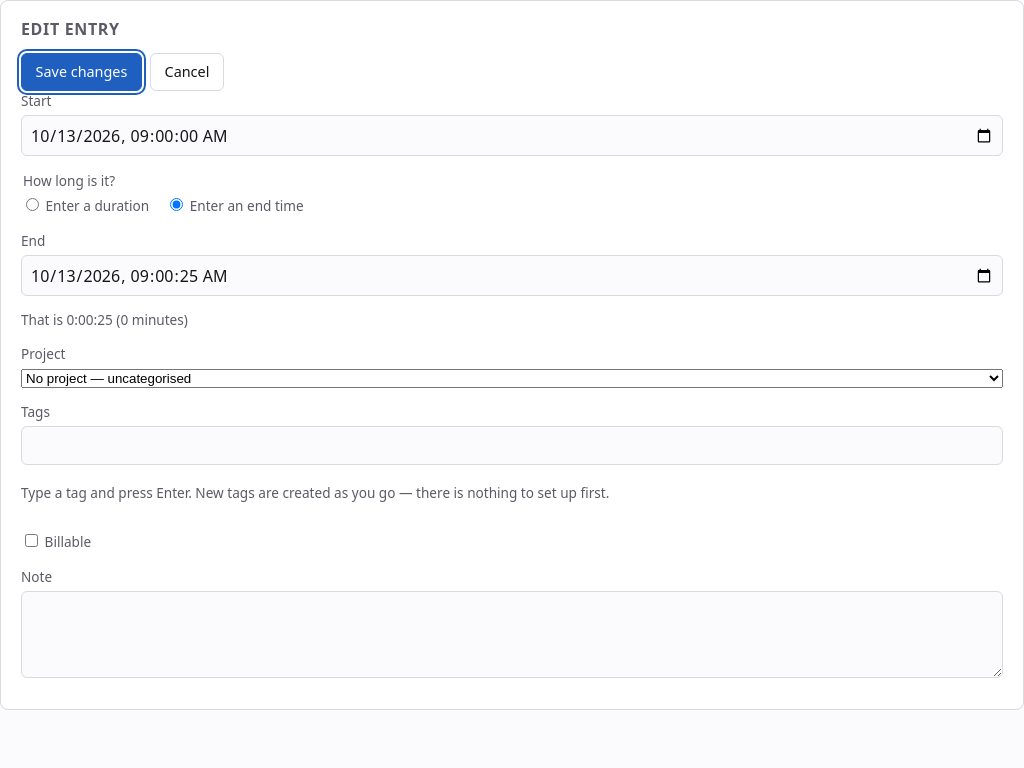
Test case: duration in seconds (item 30) › shows a short entry’s seconds rather than rounding it away
The image size is (1024, 768).
Click the radio button labelled "Enter a duration" at x=32, y=204, box [26, 198, 39, 211]
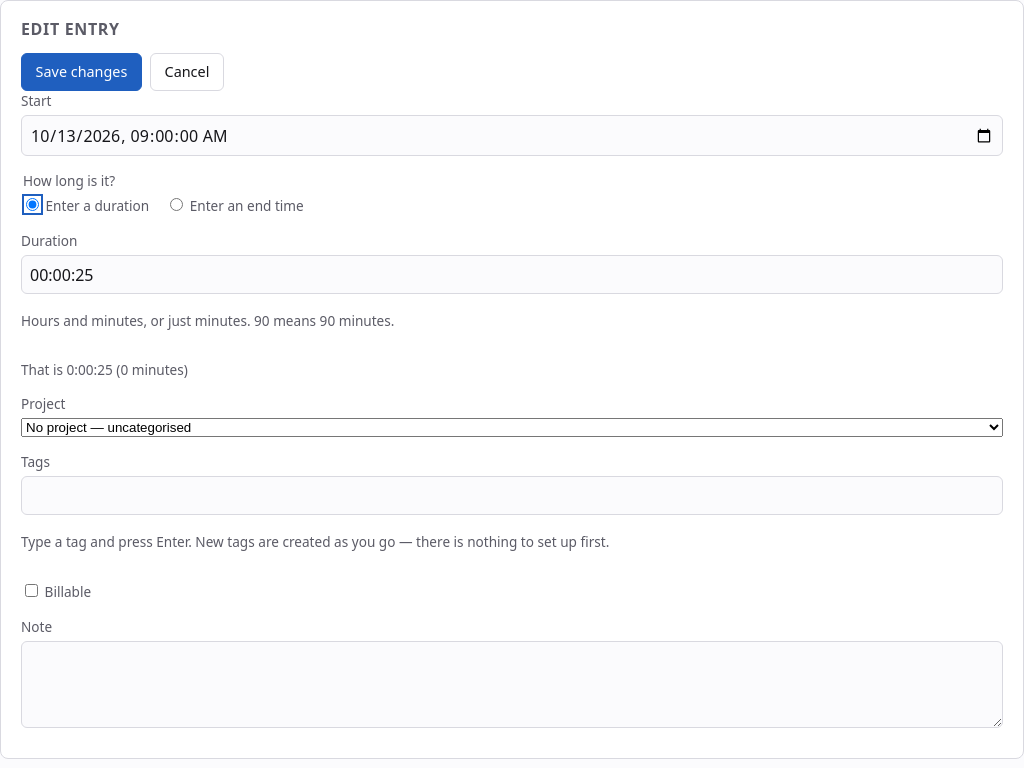
Result: the field labelled "Duration" holds "00:00:25" at [21, 255, 1003, 294]
